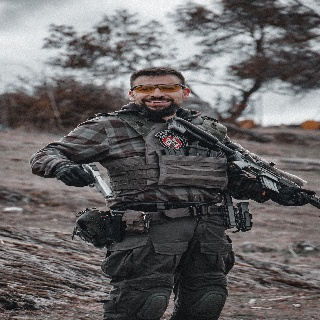pistol: (81, 161, 111, 198)
rifle: (165, 115, 320, 215)
